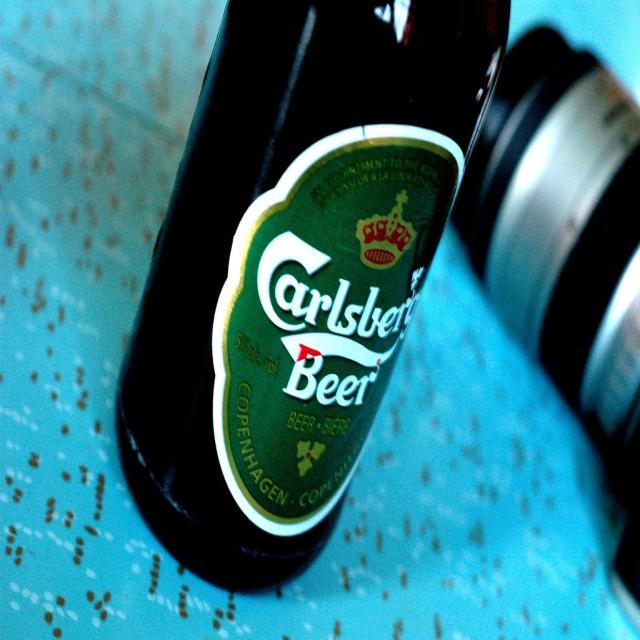carlsberg: (221, 137, 463, 528)
